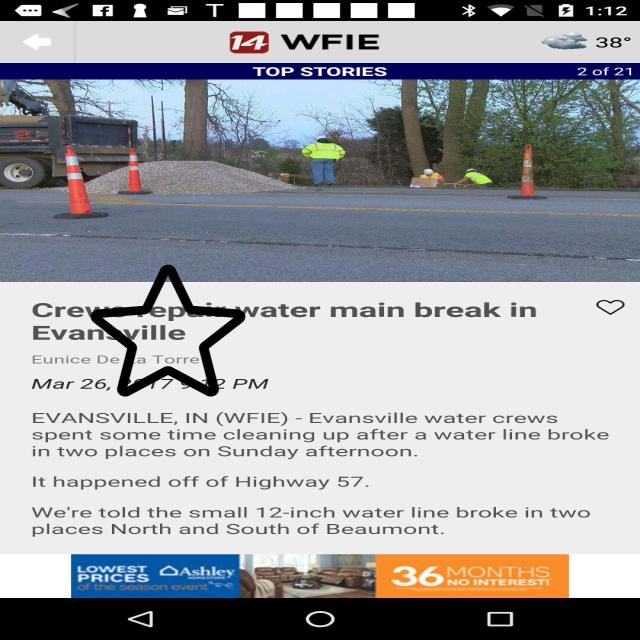forced continuity: (91, 262, 245, 399)
